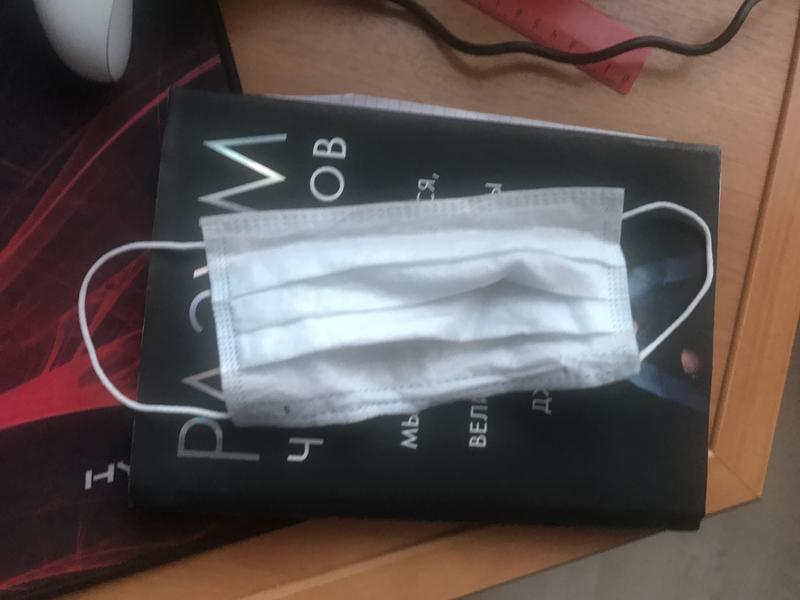medical_mask: (80, 186, 717, 427)
